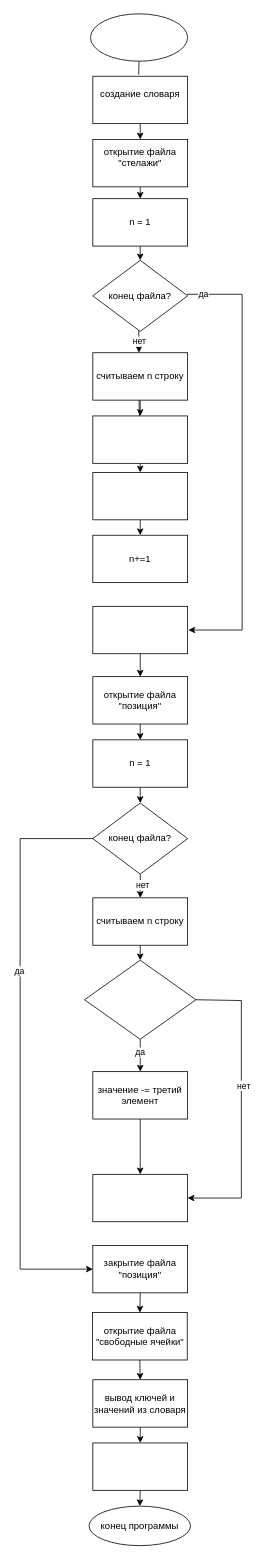
Some shapes in this 263 by 1559 pixel diagram are drawn without their labels. The shapes that lost their labels are listed below. From the top down, each one's centre as x and y in pixels, then its label:
point 139,37: начало программы
point 140,439: первый элемент-ключ
point 140,496: третий элемент-значение(int)
point 140,630: закрытие файла "стелажи"
point 140,999: есть ключ равный первому элементу?
point 140,1198: n += 1
point 140,1466: закрытие файла "свободные ячейки"
